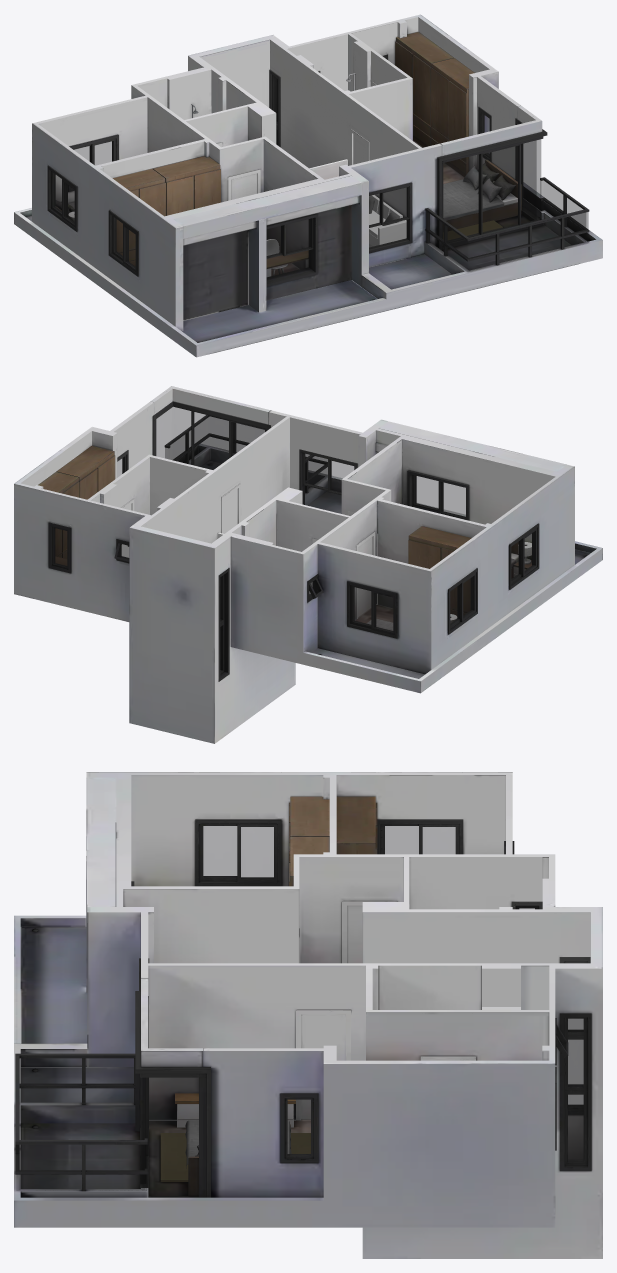
File: 2511_floor2_Edit02.gltf
3 renders of one model, top to bottom at view 1: azimuth 30°, elevation 25°; view 2: azimuth 150°, elevation 25°; view 3: azimuth 270°, elevation 25°, orthographic. The views are drawn at different scales.
Parts seen in each view (by area): view 1: floor2_Geo, mirror_floor2, metal_floor2, stair_floor2, bed_floor2, sofa_floor2, chair_floor2; view 2: floor2_Geo, mirror_floor2, metal_floor2, stair_floor2, chair_floor2, bed_floor2; view 3: floor2_Geo, mirror_floor2, metal_floor2, chair_floor2, stair_floor2, sofa_floor2, bed_floor2.
Boxes of the visible parts, x1,y1,x2,y2 form: floor2_Geo: (14, 14, 602, 357); mirror_floor2: (54, 77, 588, 279); metal_floor2: (47, 54, 589, 342); stair_floor2: (113, 32, 474, 266); bed_floor2: (55, 159, 521, 277); sofa_floor2: (369, 195, 502, 247); chair_floor2: (217, 82, 376, 275); floor2_Geo: (14, 386, 602, 743); mirror_floor2: (54, 407, 534, 670); metal_floor2: (48, 401, 586, 681); stair_floor2: (38, 446, 471, 615); chair_floor2: (121, 483, 375, 618); bed_floor2: (55, 542, 531, 630); floor2_Geo: (14, 772, 602, 1258); mirror_floor2: (17, 826, 583, 1196); metal_floor2: (15, 819, 591, 1197); chair_floor2: (175, 901, 475, 1127); stair_floor2: (289, 796, 377, 886); sofa_floor2: (160, 1133, 310, 1181); bed_floor2: (185, 1120, 291, 1196).
Size of the model in its own units: 7.04 by 3.24 by 5.95.
Materials: 9 (8 with a texture image).
